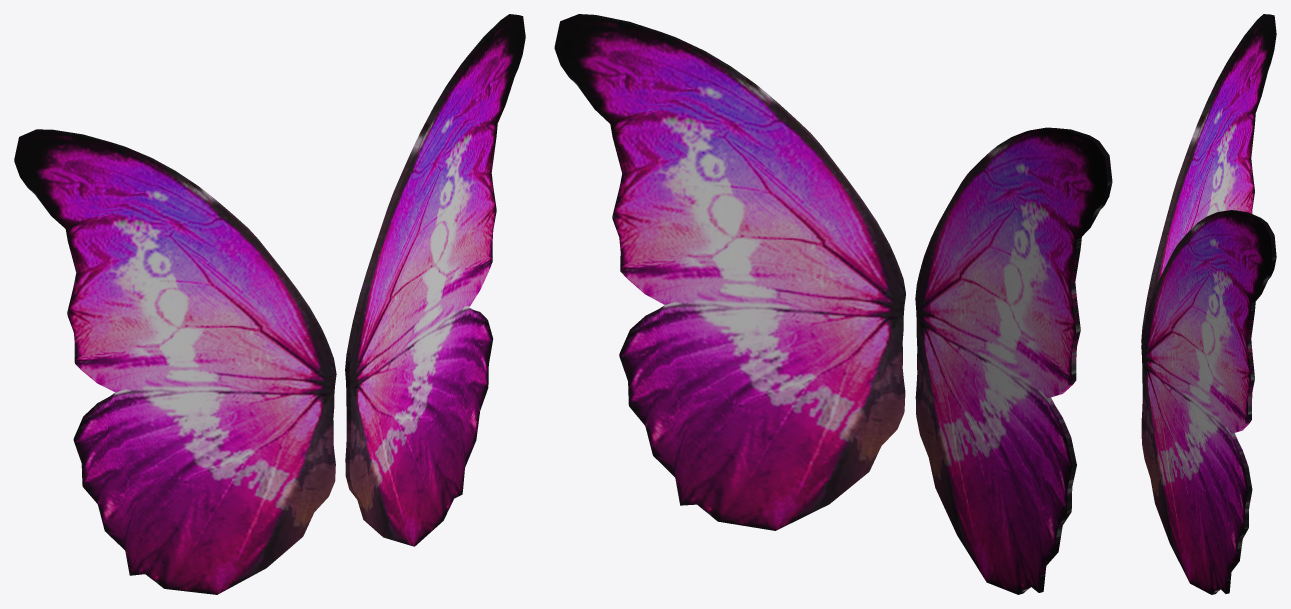
File: Butterfly_Wings_04.fbx
3 views of the same model, side by side, from view 1: azimuth 30°, elevation 25°; view 2: azimuth 150°, elevation 25°; view 3: azimuth 270°, elevation 25° (orthographic). The views are drawn at different scales.
Visible parts, largest first — view 1: ButterflyWings; view 2: ButterflyWings; view 3: ButterflyWings.
Part boxes in pixels (box(x1,y1,x2,y2)): ButterflyWings: box(14, 14, 525, 594); ButterflyWings: box(554, 14, 1112, 594); ButterflyWings: box(1141, 14, 1276, 594).
Bounding box in the file's own units: 9.91 × 8.66 × 2.52.
Materials: 1 (1 with a texture image).
